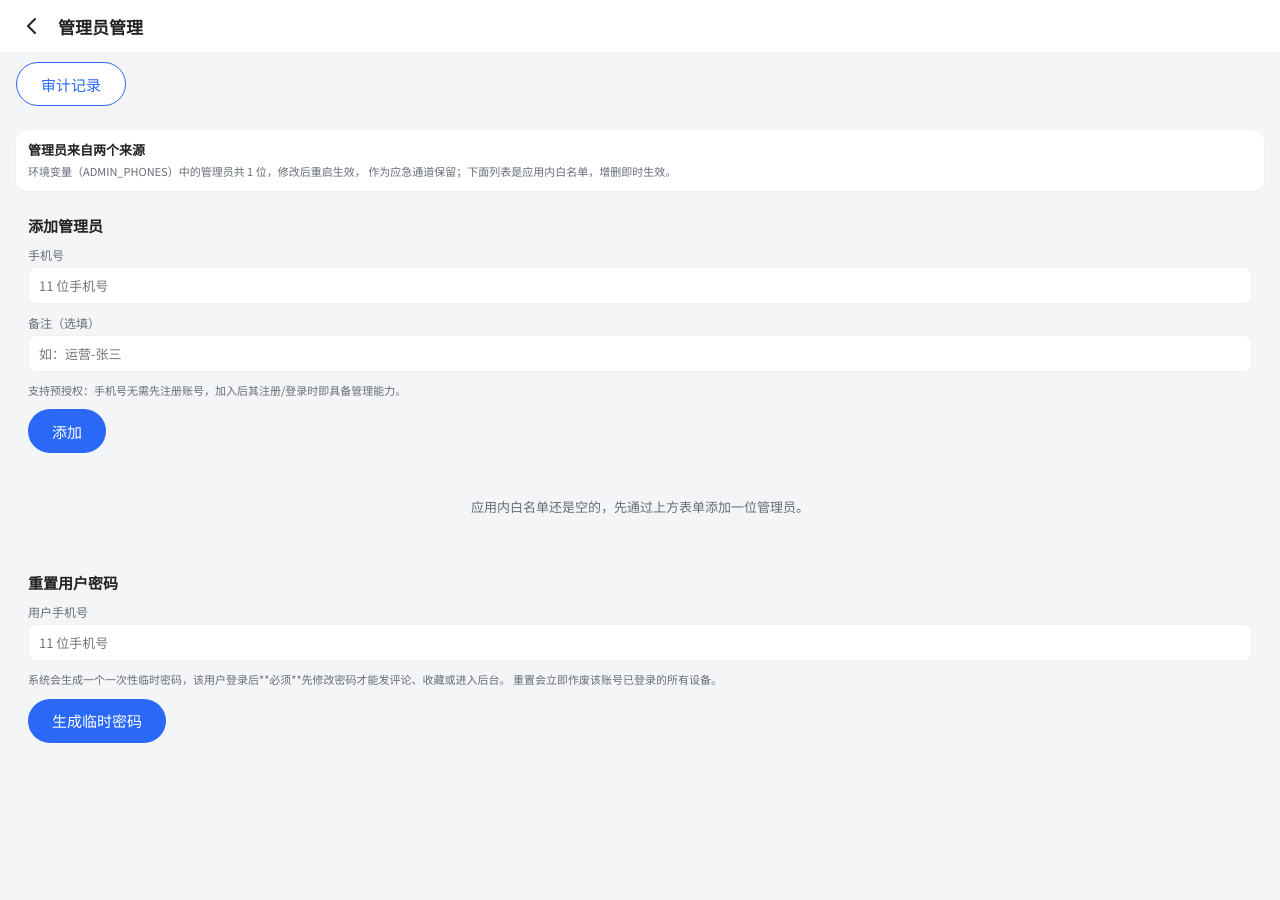
Test: views/AdminUsers › 添加成功：带备注提交、清空表单并刷新列表
Step 1. Type "13900000004" into the field named "管理员手机号" → (640, 285), box [28,267,1252,304]
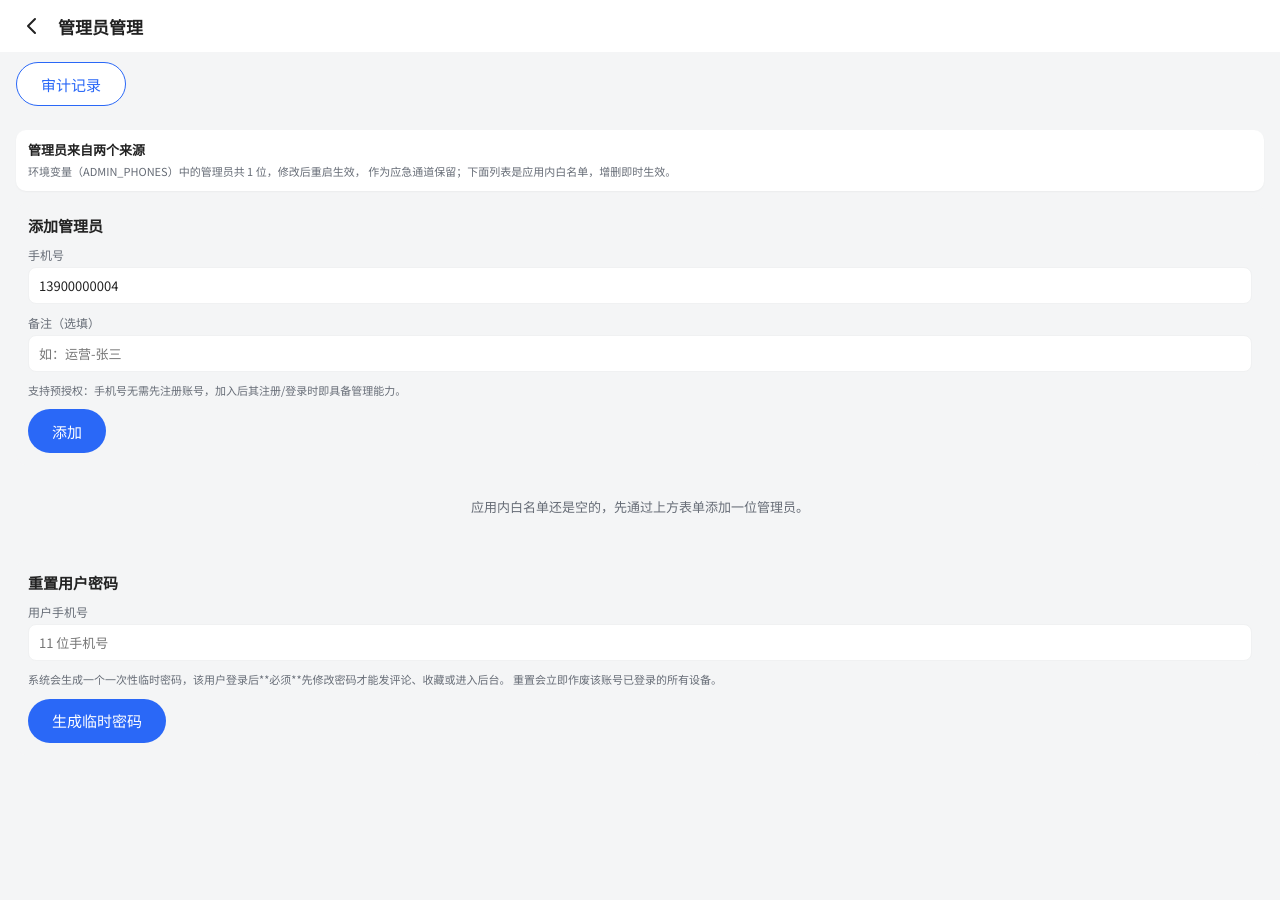
Step 2. Type "运营-小赵" into the field with placeholder "如：运营-张三" → (640, 353), box [28,335,1252,372]
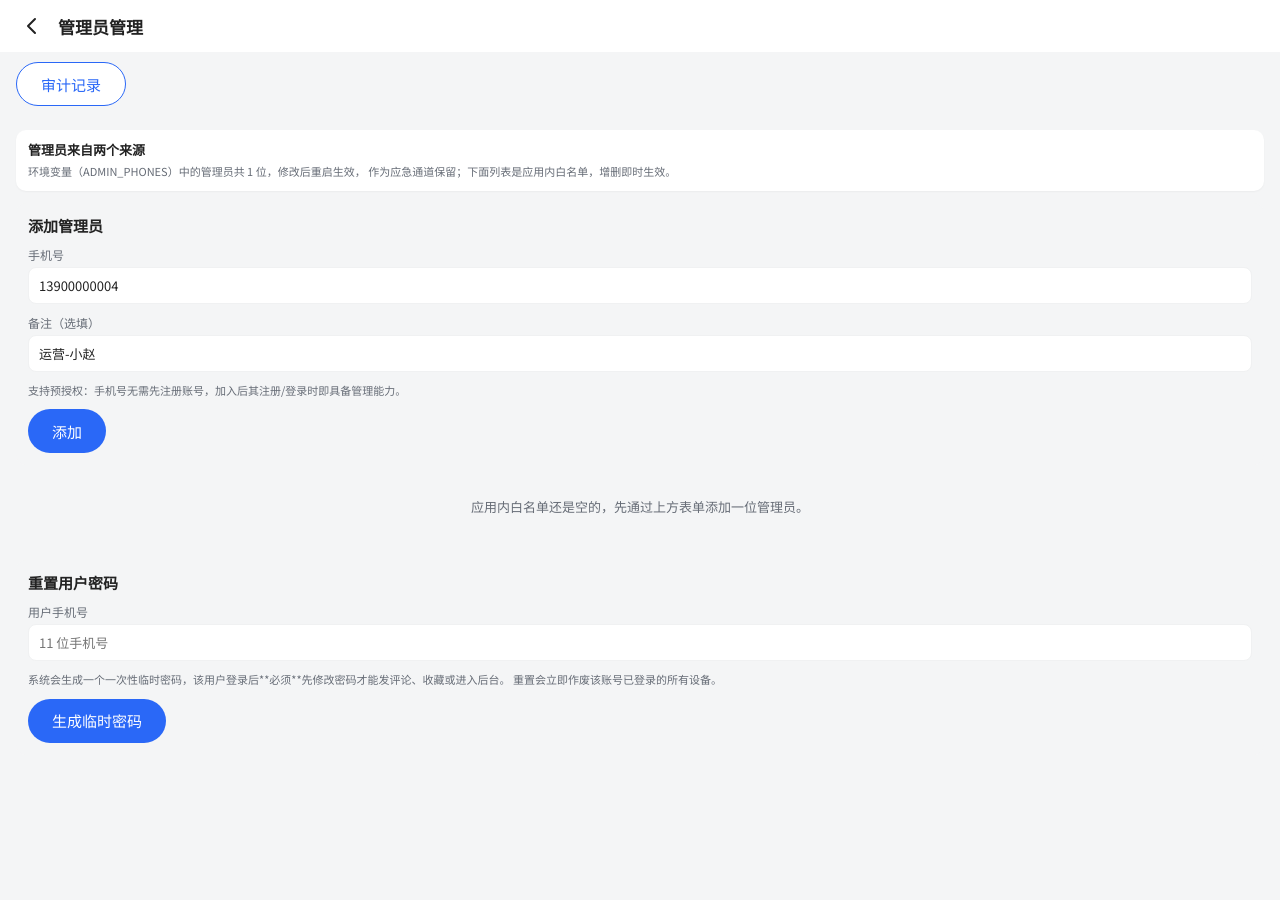
Step 3. Submit the form "添加管理员 手机号 备注（选填） 支持预授权：手机号无需先注册账号，加入后其注册/登录时即具备管理能力。 添加", box [16,203,1264,465]
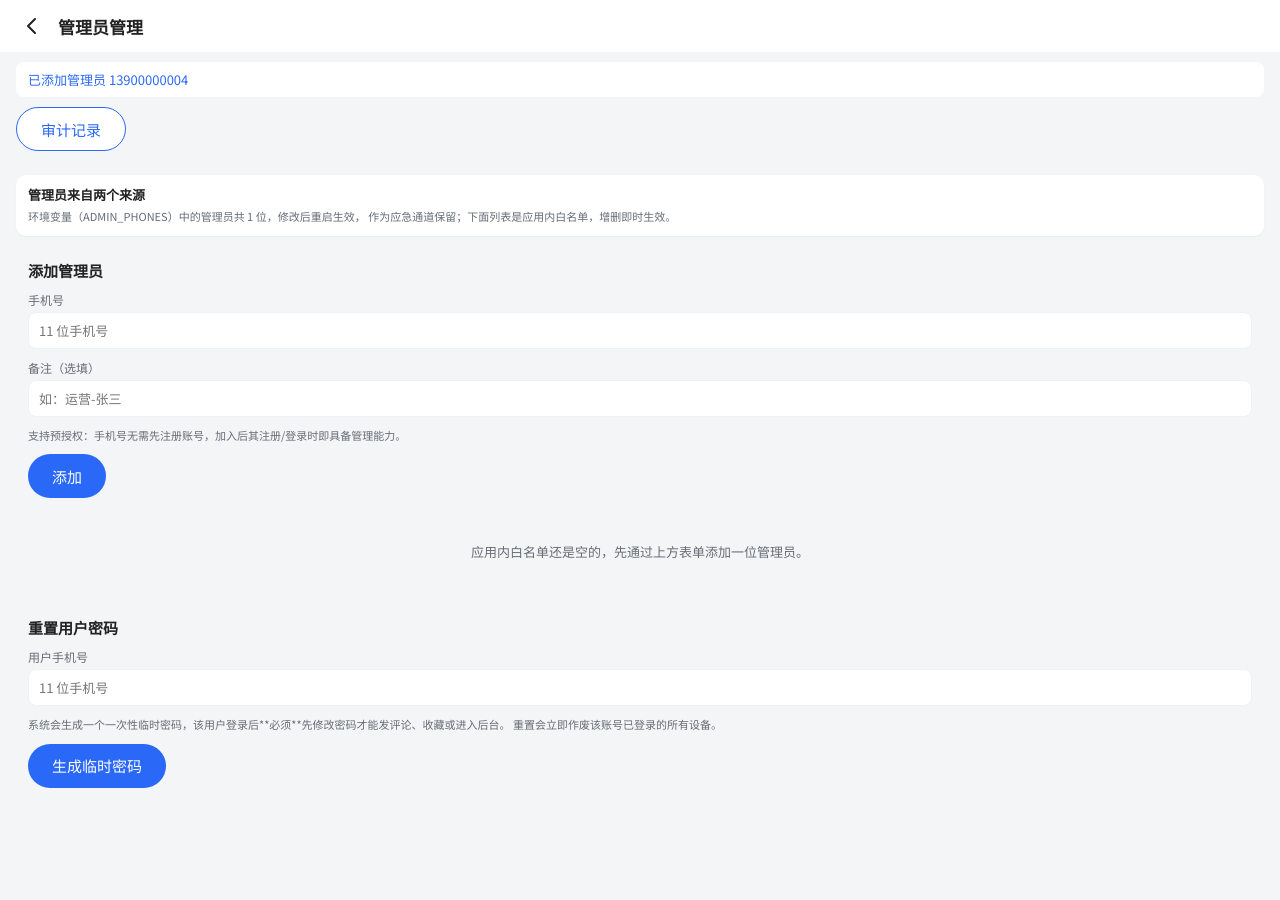
Expected: the text "已添加管理员 13900000004" is shown, [16,62,1264,97]
Expected: the field named "管理员手机号" is empty, [28,312,1252,349]
